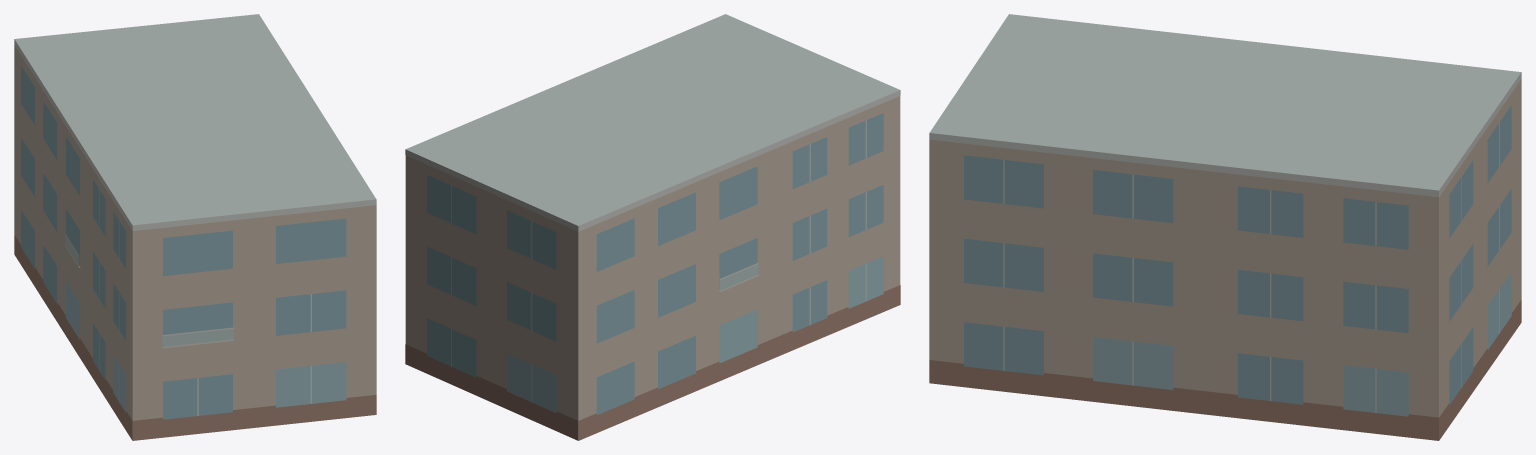
The model's file is survey-upis-32999668.glb.
The picture shows the model from 3 angles, left to right: view 1: azimuth 30°, elevation 25°; view 2: azimuth 150°, elevation 25°; view 3: azimuth 270°, elevation 25°; orthographic projection. The views are drawn at different scales.
Visible parts, largest first — view 1: survey-upis-32999668.tmp; view 2: survey-upis-32999668.tmp; view 3: survey-upis-32999668.tmp.
Part boxes in pixels (<box>): survey-upis-32999668.tmp: <box>14,14,376,440</box>; survey-upis-32999668.tmp: <box>405,14,900,440</box>; survey-upis-32999668.tmp: <box>929,14,1521,440</box>.
Bounding box in the file's own units: 13.85 × 9.15 × 19.63.
